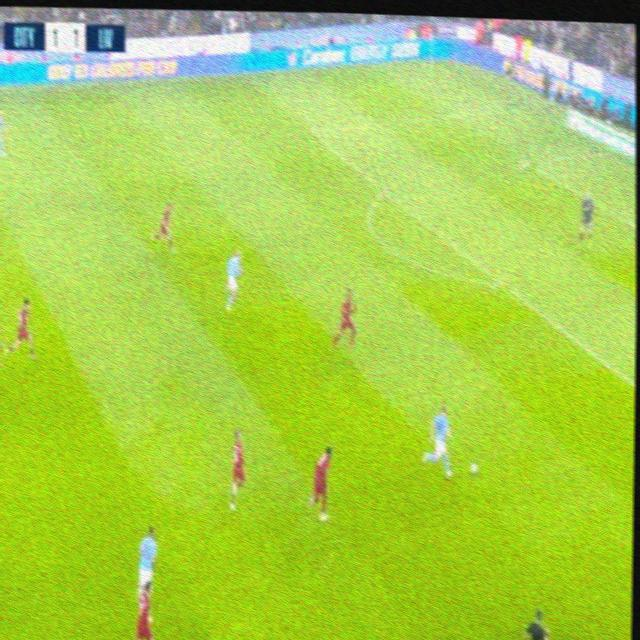bigarea_top_inner: (300, 119, 320, 143)
bigarea_top_outter: (504, 97, 521, 115)
bottom_arc_area_intersection: (488, 269, 509, 293)
corner: (414, 55, 437, 71)
smallarea_top_inner: (517, 152, 537, 173)
smallarea_top_outter: (589, 143, 606, 160)
top_arc_area_intersection: (375, 179, 394, 203)
